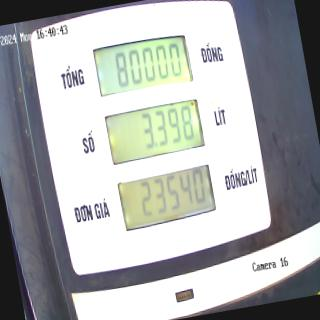screen: (90, 26, 220, 238)
